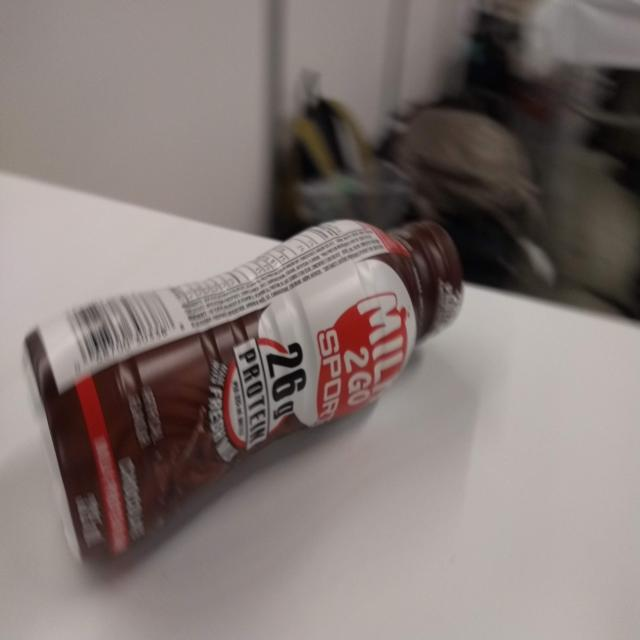chocolate_drink: (15, 212, 467, 569)
